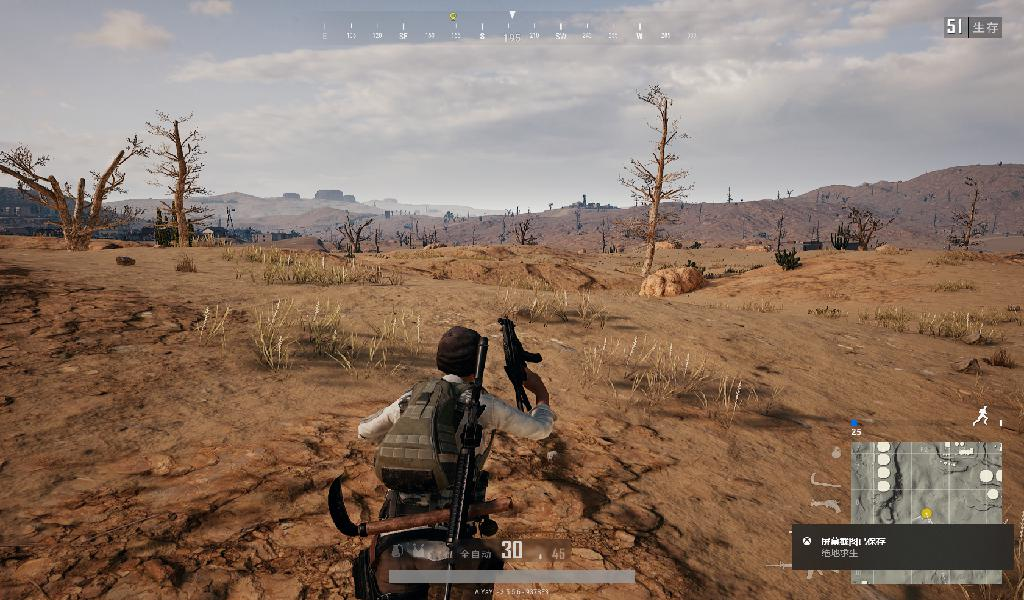Target Person: (323, 313, 558, 600)
